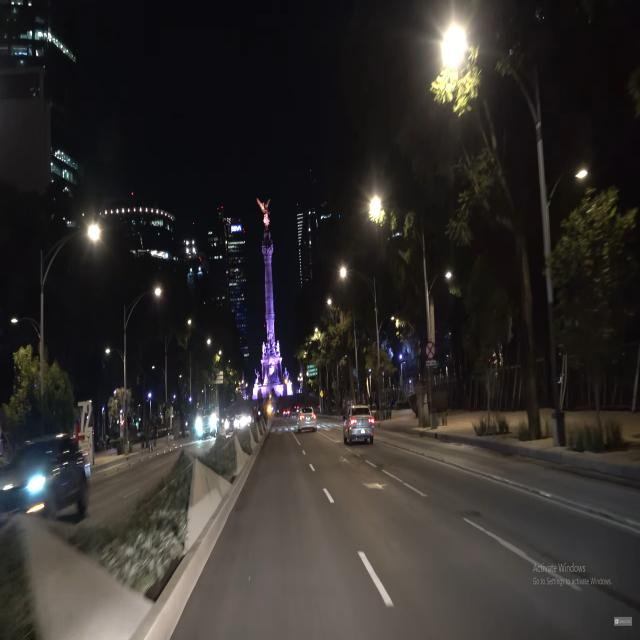headlights: (193, 412, 218, 437)
